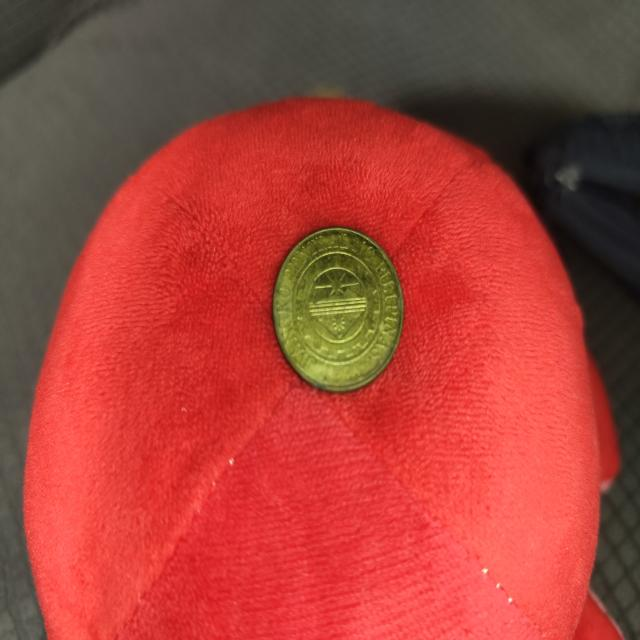25 cents-old: (267, 215, 404, 397)
